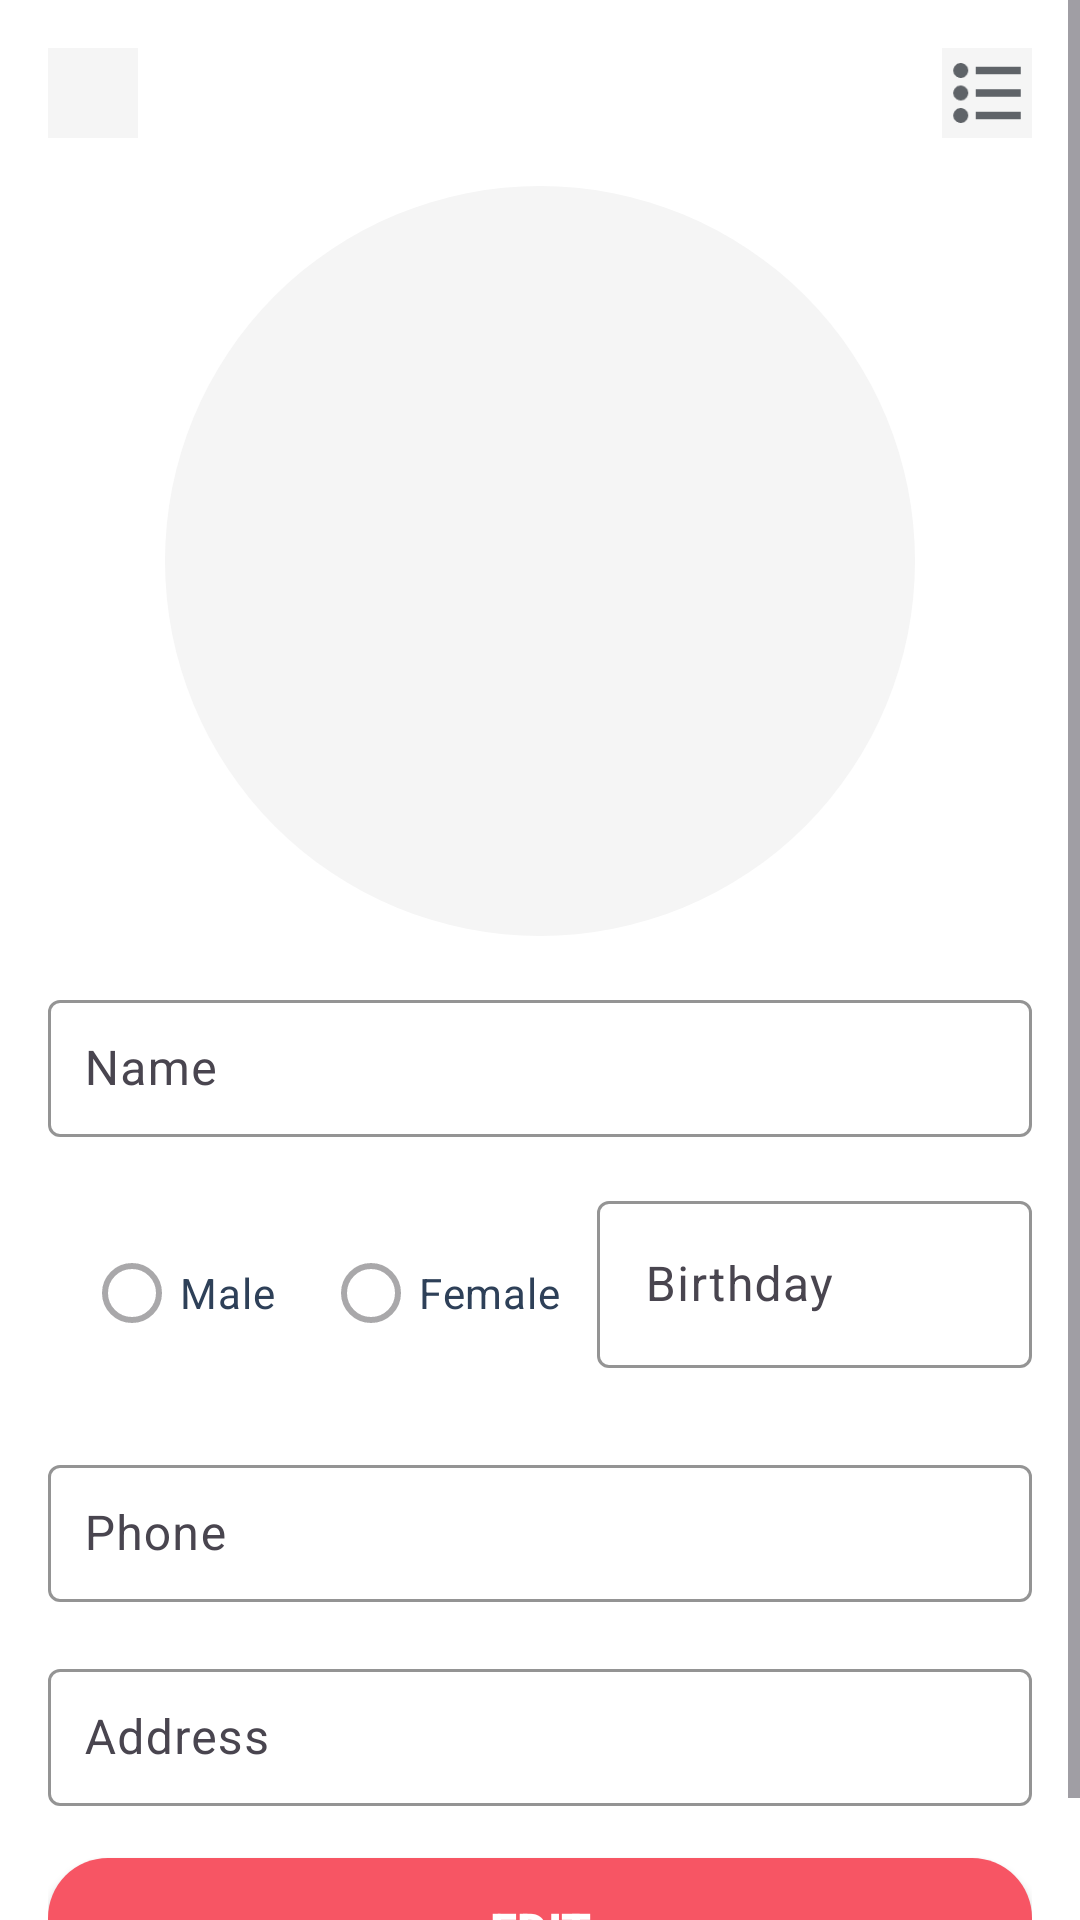

Point at icon controls on the screen. Image size 1080px×1920px, points as (x,y).
list food: (987,93)
